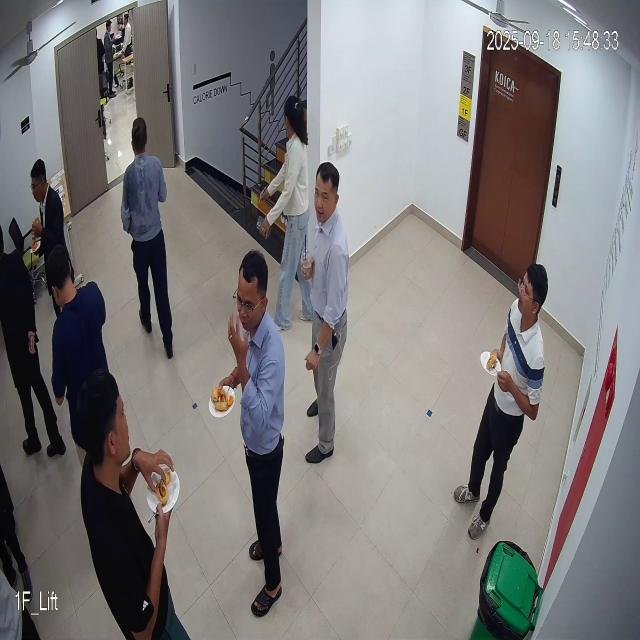face: (516, 253, 548, 323), (314, 160, 340, 227)
